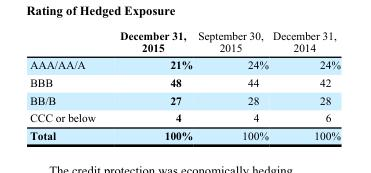table: (29, 29, 339, 141)
table column: (107, 29, 194, 141), (29, 29, 107, 141), (194, 29, 269, 141), (269, 29, 339, 141)
table column header: (29, 29, 339, 55)
table row: (29, 29, 339, 55), (29, 55, 339, 73), (29, 73, 339, 91), (29, 108, 339, 126), (29, 91, 339, 108), (29, 126, 339, 141)
